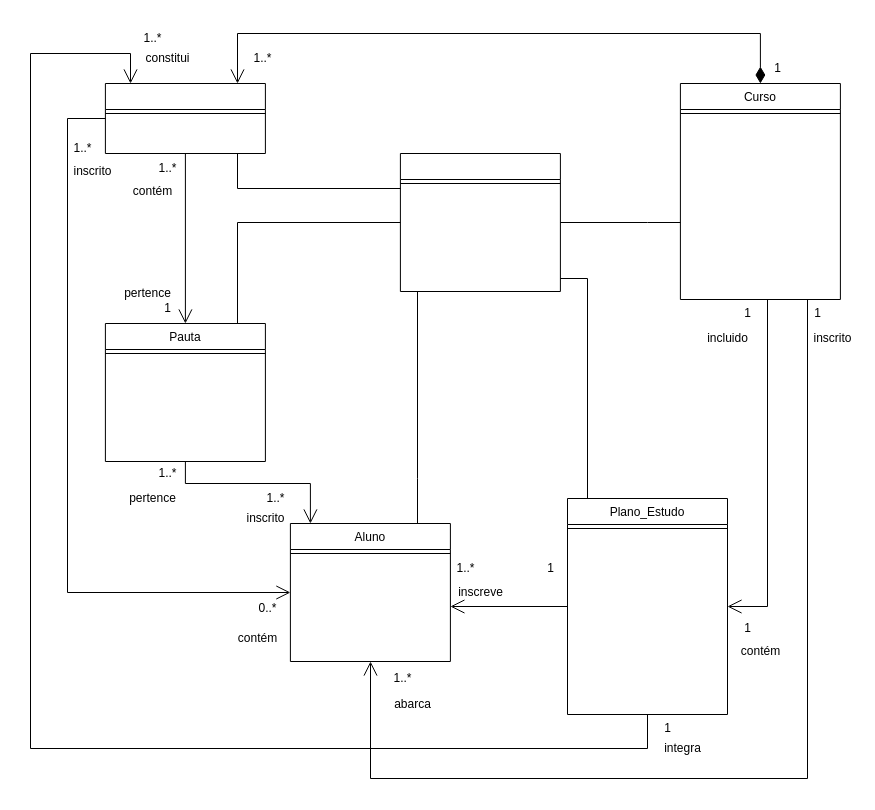
The diagram is 875 pixels wide and 810 high, and some of its shapes have lost their labels. The centre of each missing label's shape, as x and y in pixels:
"Admin" goes at (x=479, y=222).
"Disciplina" goes at (x=184, y=118).
